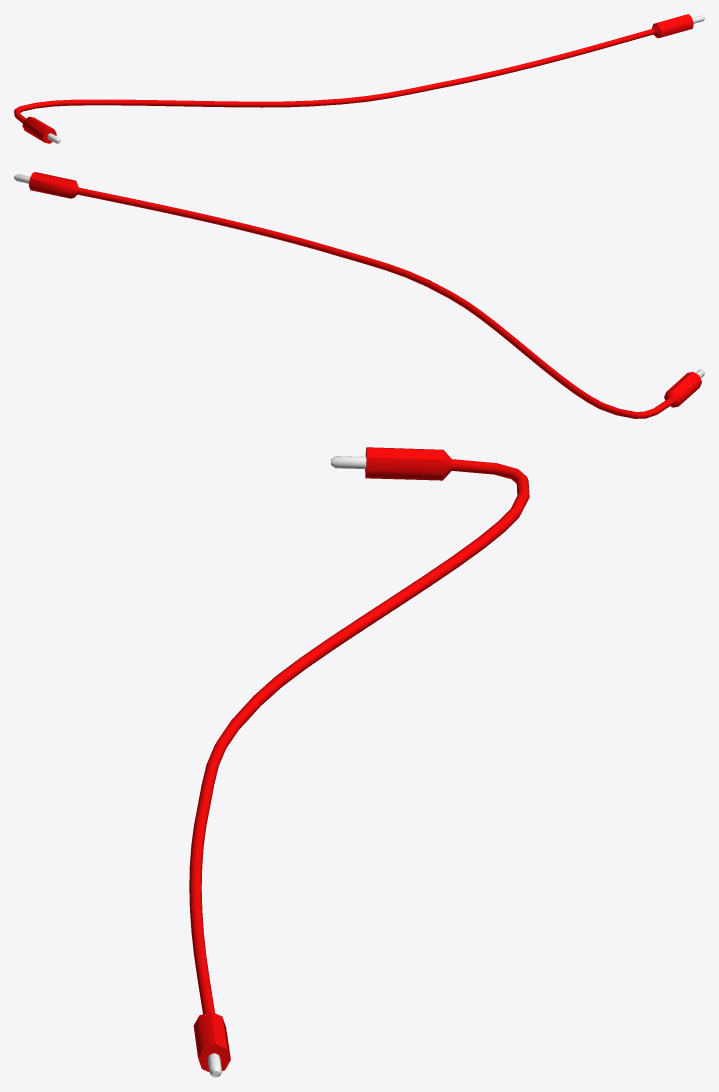
The model's file is ElectroWires07_1.FBX.
The picture shows the model from 3 angles, top to bottom: view 1: azimuth 30°, elevation 25°; view 2: azimuth 150°, elevation 25°; view 3: azimuth 270°, elevation 25°; orthographic projection. The views are drawn at different scales.
Visible parts, largest first — view 1: Wires07; view 2: Wires07; view 3: Wires07.
Boxes of the visible parts, bbox=[...] form: Wires07: bbox=[14, 14, 704, 143]; Wires07: bbox=[14, 172, 704, 418]; Wires07: bbox=[189, 447, 529, 1077].
Bounding box in the file's own units: 121 × 3.61 × 28.44.
